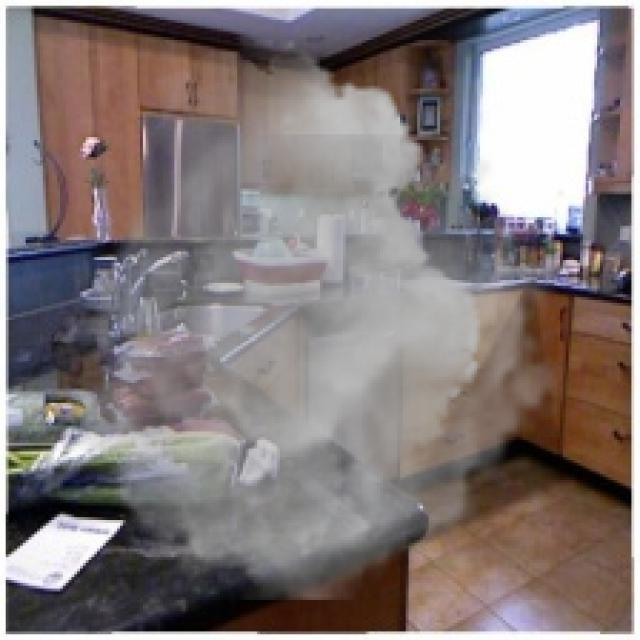Smoke: (54, 40, 577, 600)
